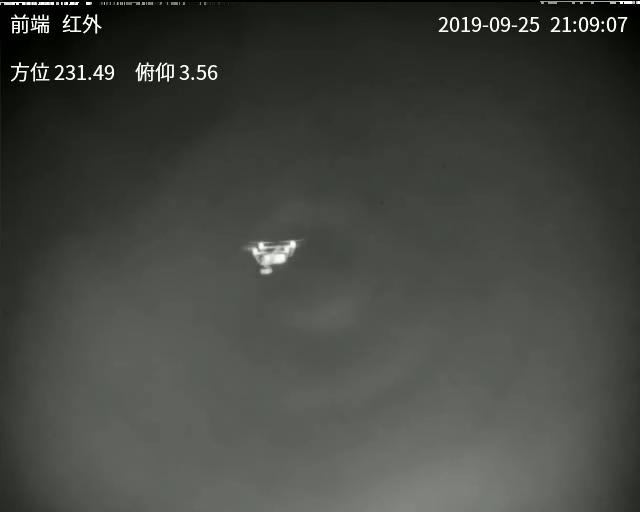uav: (243, 235, 302, 277)
